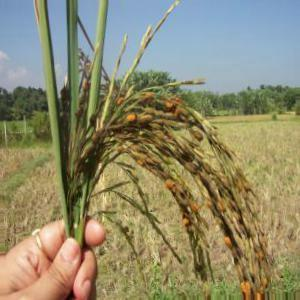Leaf_Scald: (178, 199, 208, 236), (114, 101, 136, 134), (217, 227, 238, 250), (243, 282, 262, 300), (165, 172, 174, 187)
